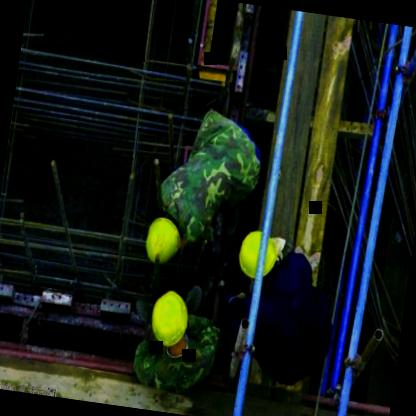helmet: (146, 287, 192, 351), (234, 224, 282, 283), (140, 214, 184, 269)
